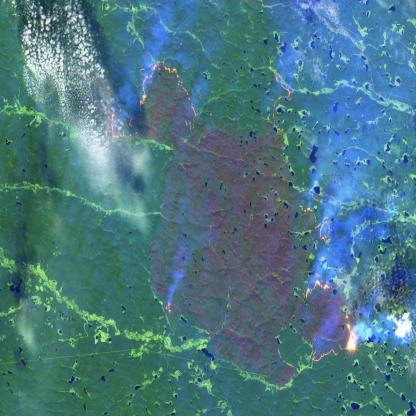fire: (106, 56, 202, 154), (302, 275, 362, 368), (267, 69, 296, 119), (315, 206, 337, 245), (163, 298, 176, 319)
